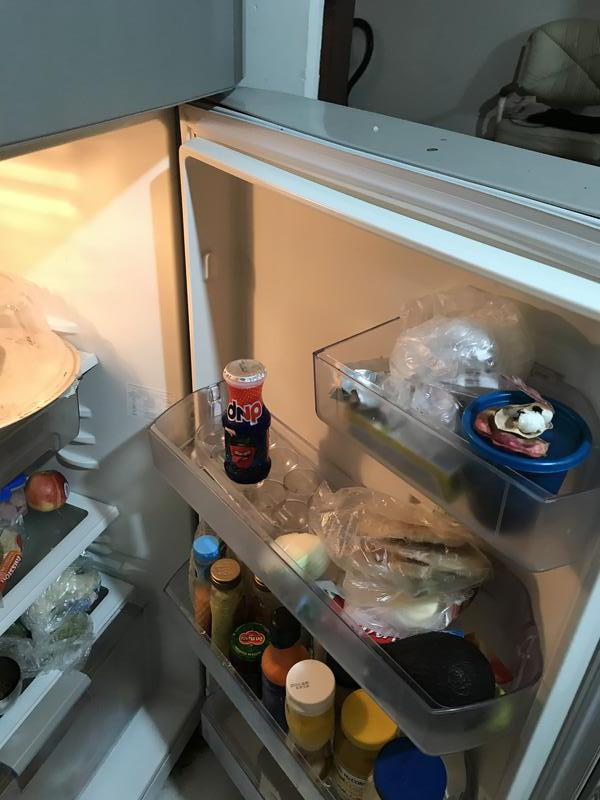danup: (216, 359, 275, 484)
